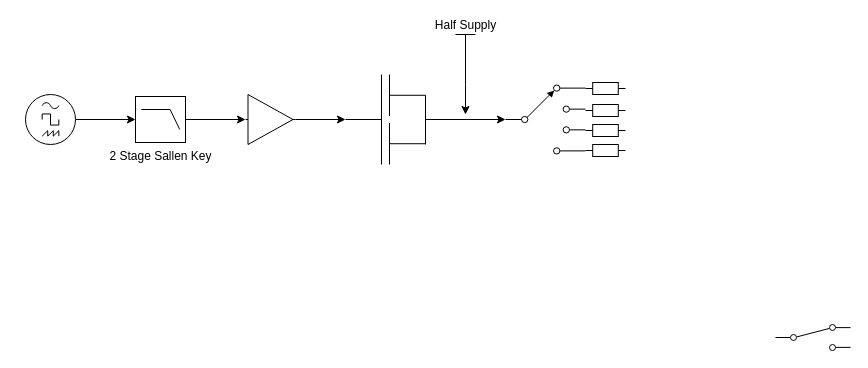
This 868x368 diagram has some shape labels left out. Each missing label, with the box of its shape:
Buffer: (244, 94, 296, 144)
STM32 DAC: (24, 94, 76, 144)
